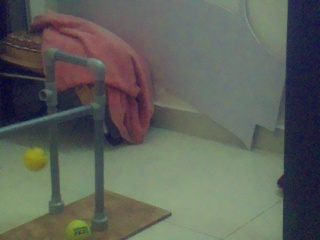ball: (23, 147, 47, 170)
